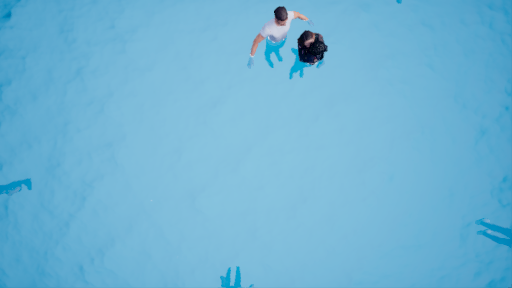person: (243, 5, 336, 81)
